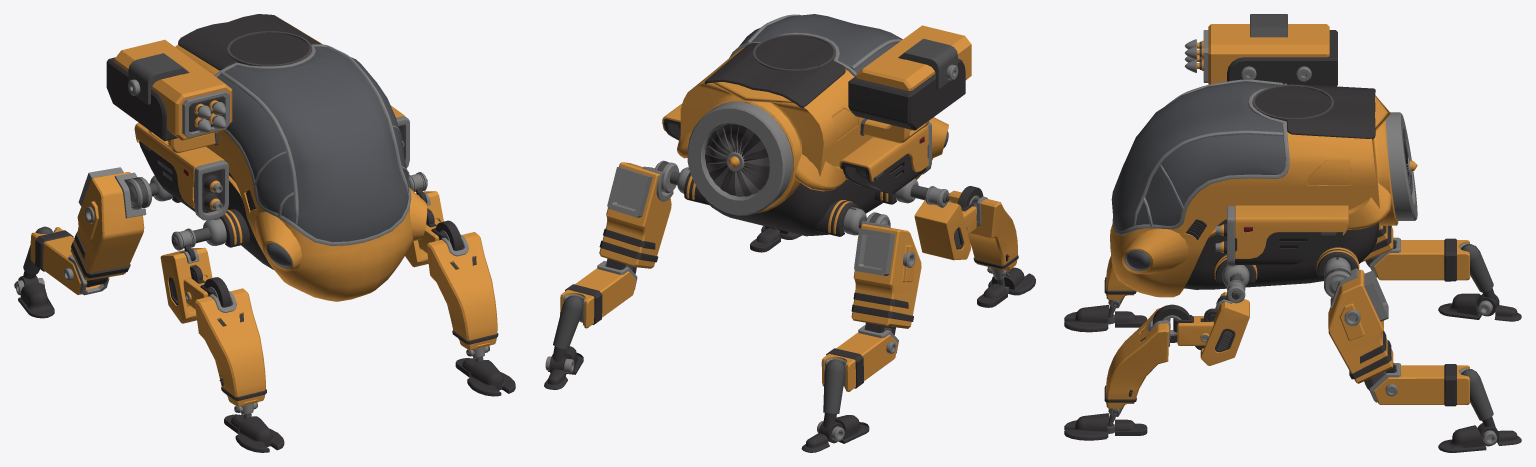
Rendered from Frog-Bus2.fbx.
3 views of the same model, side by side, from view 1: azimuth 30°, elevation 25°; view 2: azimuth 150°, elevation 25°; view 3: azimuth 270°, elevation 25° (orthographic). The views are drawn at different scales.
Visible parts, largest first — view 1: polySurface625.001; view 2: polySurface625.001; view 3: polySurface625.001.
Part boxes in pixels (<box>): polySurface625.001: <box>14,14,515,452</box>; polySurface625.001: <box>544,14,1035,452</box>; polySurface625.001: <box>1064,14,1521,452</box>.
Bounding box in the file's own units: 20079 × 19129 × 26372.
